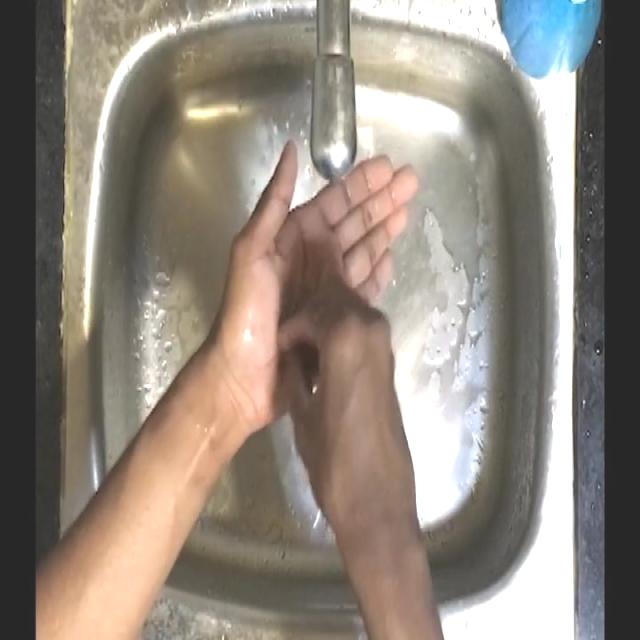step_6: (223, 134, 420, 492)
